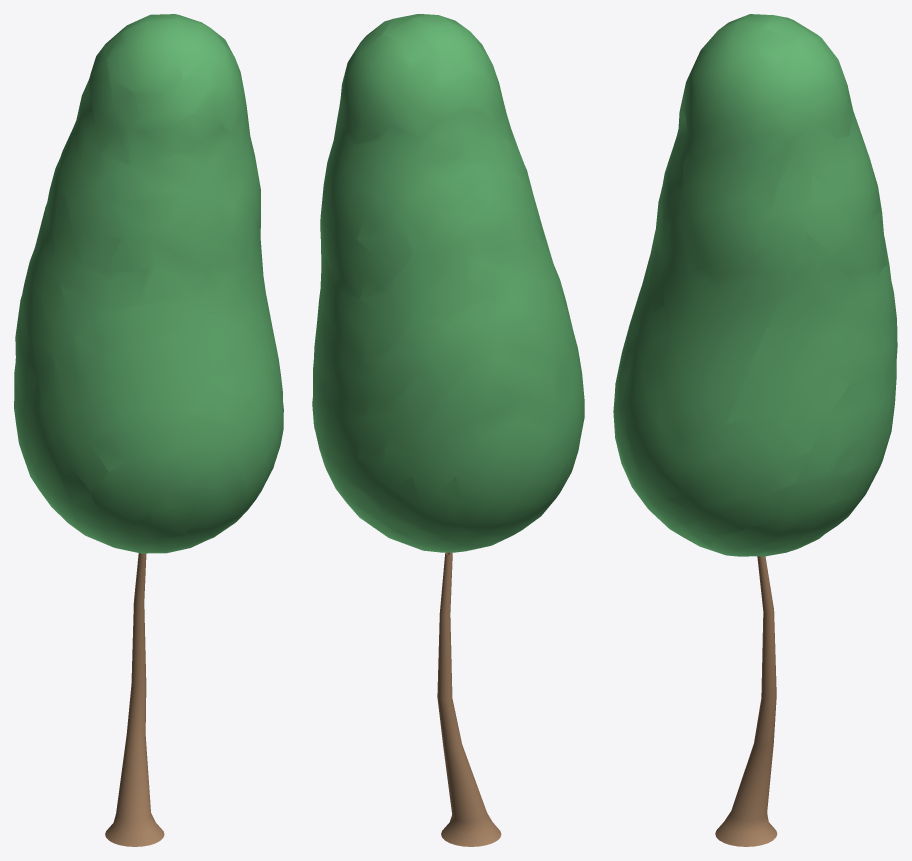
The model's file is Cartoon_Trees_Pack_Tree_10.glb.
The picture shows the model from 3 angles, left to right: view 1: azimuth 30°, elevation 25°; view 2: azimuth 150°, elevation 25°; view 3: azimuth 270°, elevation 25°; orthographic projection. The views are drawn at different scales.
Parts seen in each view (by area): view 1: 02_Leaves, 01_Trunk; view 2: 02_Leaves, 01_Trunk; view 3: 02_Leaves, 01_Trunk.
Boxes of the visible parts, bbox=[...] form: 02_Leaves: bbox=[14, 14, 283, 553]; 01_Trunk: bbox=[105, 553, 164, 846]; 02_Leaves: bbox=[312, 14, 584, 552]; 01_Trunk: bbox=[437, 552, 501, 846]; 02_Leaves: bbox=[613, 14, 897, 556]; 01_Trunk: bbox=[715, 556, 777, 846].
Size of the model in its own units: 3.05 by 10 by 3.09.
